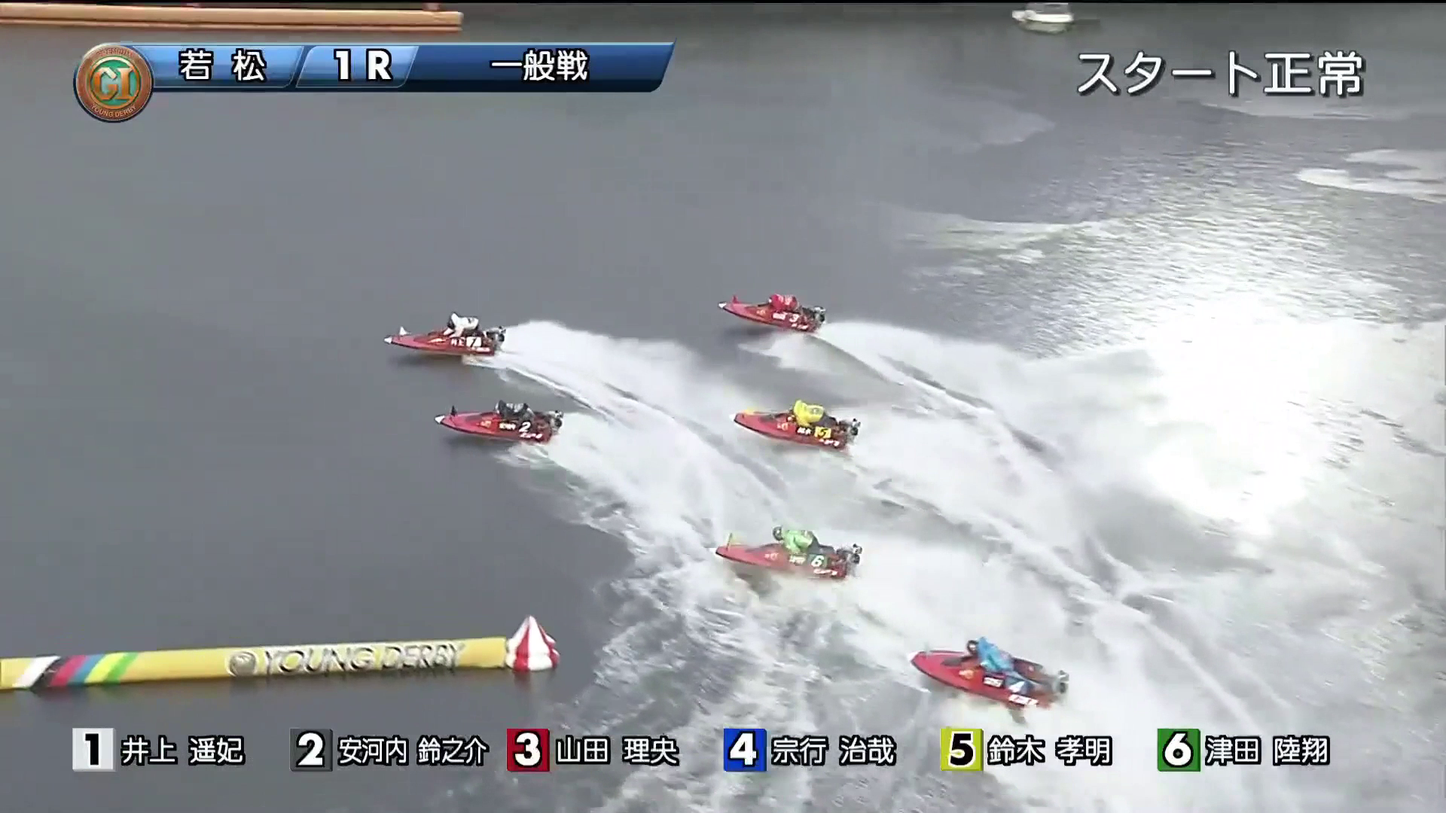１号艇: (411, 280, 482, 333)
２号艇: (425, 370, 554, 431)
３号艇: (745, 264, 842, 317)
４号艇: (733, 504, 867, 569)
５号艇: (931, 647, 1055, 702)
６号艇: (741, 357, 841, 437)
